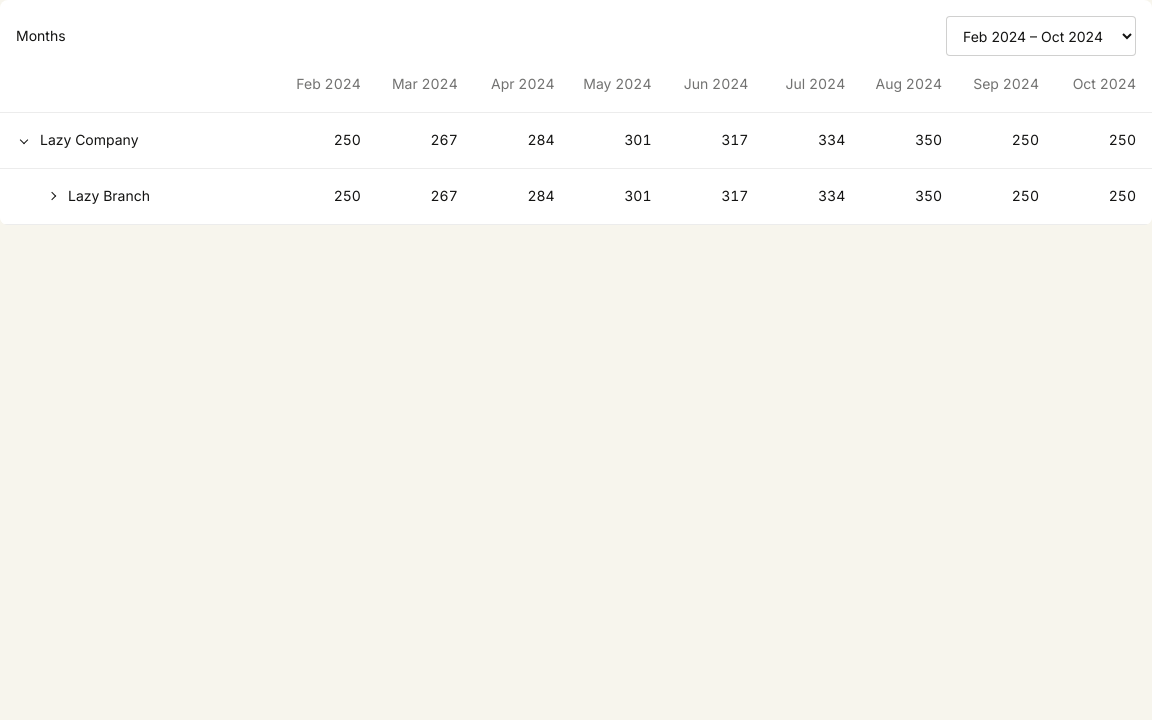
Scenario: HierarchyTable › shows a child-load error and retries the same node on the next expansion
Click the button named "Expand Lazy Branch": click(52, 196) [44,186,60,206]
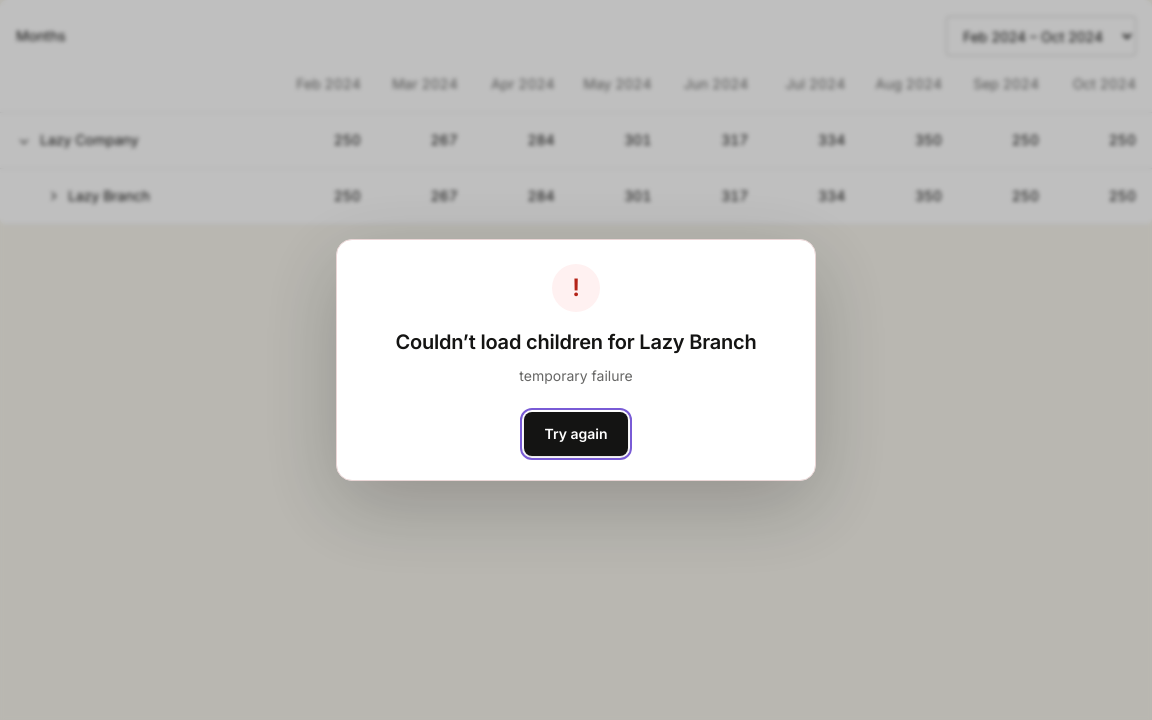
Check: the message shows "Couldn’t load children for Lazy Branch", box [395,330,757,354]
Check: the message shows "temporary failure", box [519,367,633,384]
Check: the button "Try again" is shown
Click the button "Try again": click(576, 434) [524,412,628,456]
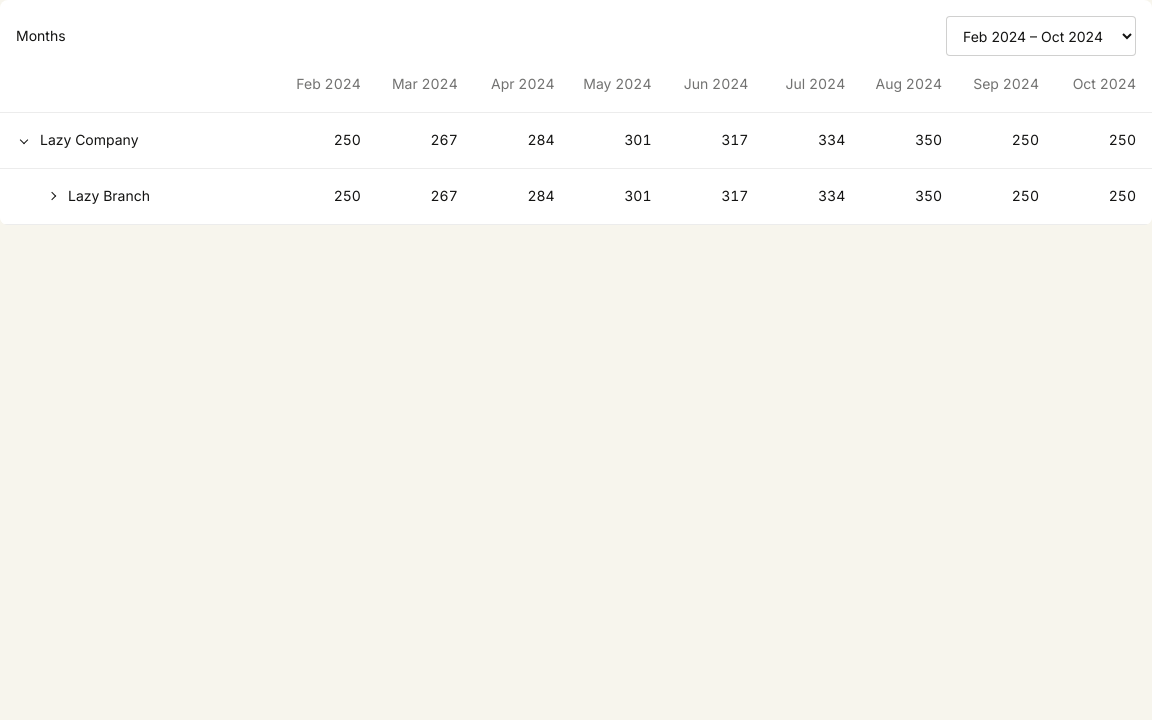
Check: the message "! Couldn’t load children for Lazy Branch temporary failure Try again" is gone
